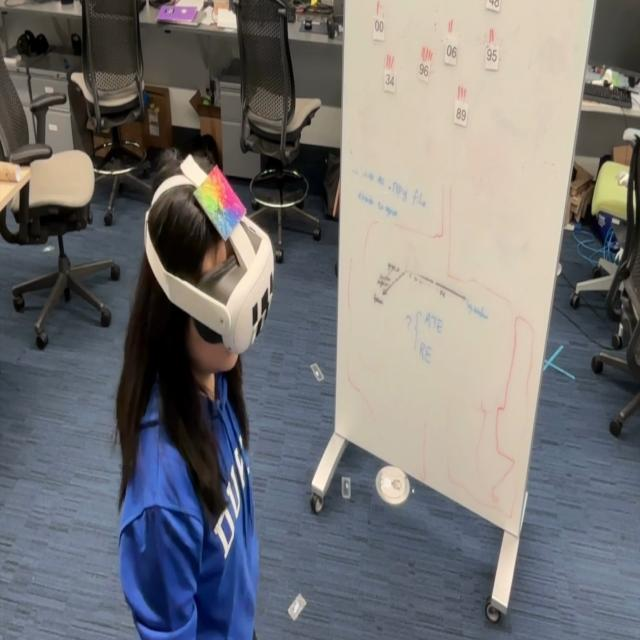Headset: (143, 170, 275, 356)
Marker: (194, 161, 248, 241)
